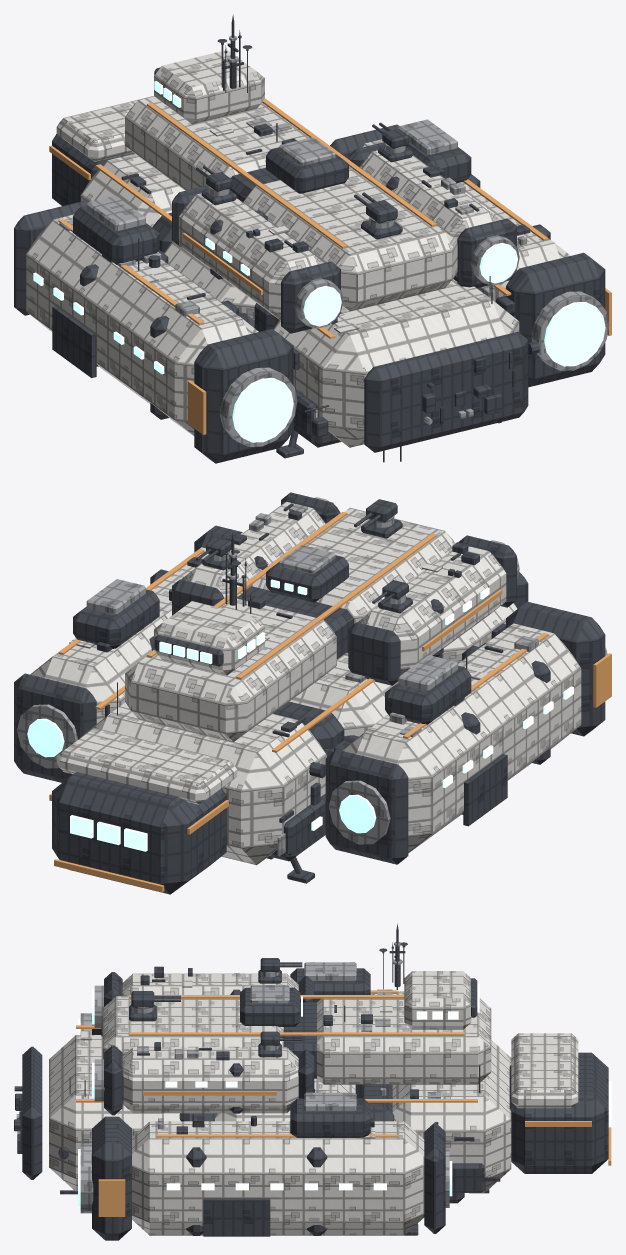
File: aur-bastion-corvette.glb
The picture shows the model from 3 angles, top to bottom: view 1: azimuth 30°, elevation 25°; view 2: azimuth 150°, elevation 25°; view 3: azimuth 270°, elevation 25°; orthographic projection. The views are drawn at different scales.
Visible parts, largest first — view 1: Hull_White, Hull_Dark, Hull_Grey, Glow, Livery, Windows; view 2: Hull_White, Hull_Dark, Hull_Grey, Livery, Windows, Glow; view 3: Hull_White, Hull_Dark, Hull_Grey, Livery, Windows, Glow.
Boxes of the visible parts, x1,y1,x2,y2 form: Hull_White: (26,50,570,447); Hull_Dark: (14,14,605,463); Hull_Grey: (59,35,609,446); Glow: (232,243,605,442); Livery: (49,98,611,434); Windows: (33,81,489,374); Hull_White: (30,501,581,865); Hull_Dark: (14,492,605,894); Hull_Grey: (17,497,607,856); Livery: (49,511,611,892); Windows: (70,529,573,851); Glow: (27,718,376,833); Hull_White: (49,971,578,1235); Hull_Dark: (14,923,608,1240); Hull_Grey: (16,942,449,1213); Livery: (76,990,611,1216); Windows: (165,983,611,1190); Glow: (78,989,452,1207).
Size of the model in its own units: 61.4 by 45.58 by 89.23.
6 materials, 3 textured.
